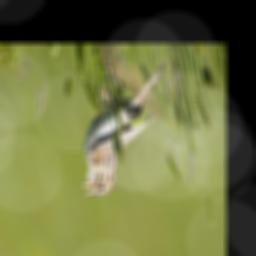Sparrow: (80, 64, 165, 197)
